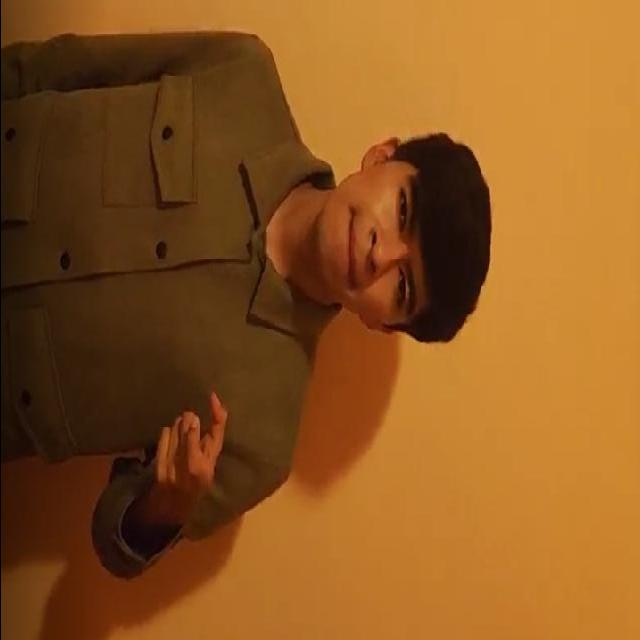X: (130, 378, 246, 521)
